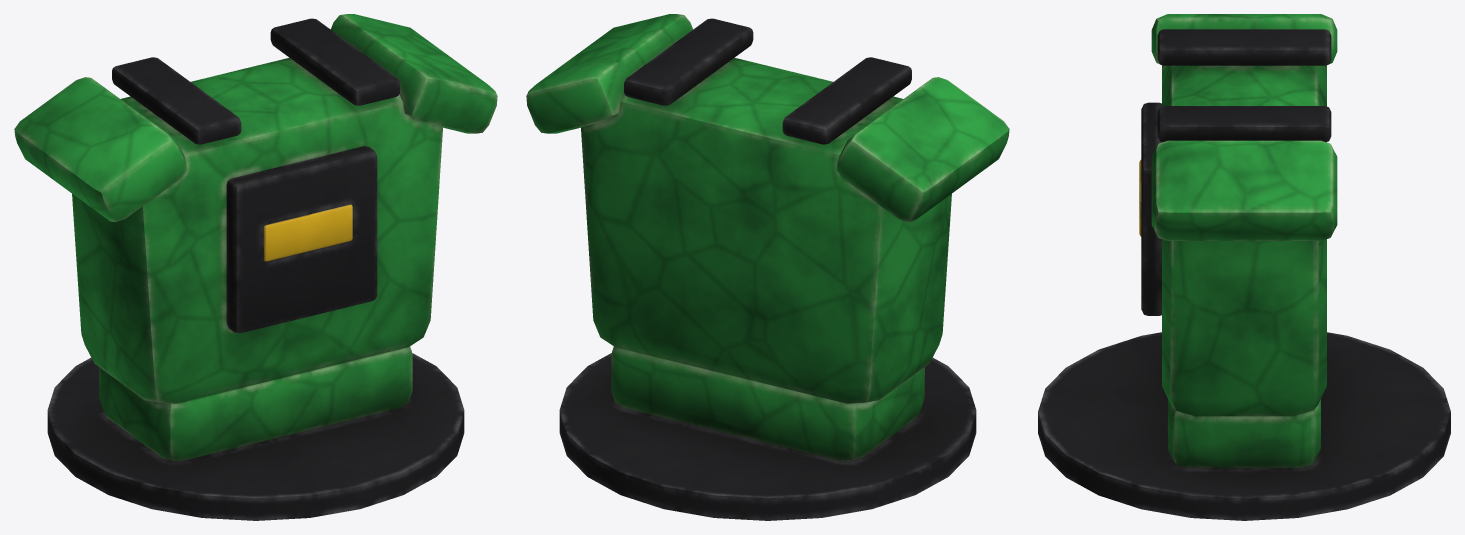
The model's file is pk_armor.glb.
The picture shows the model from 3 angles, left to right: view 1: azimuth 30°, elevation 25°; view 2: azimuth 150°, elevation 25°; view 3: azimuth 270°, elevation 25°; orthographic projection.
Parts seen in each view (by area): view 1: pk_armor; view 2: pk_armor; view 3: pk_armor.
Part boxes in pixels (left/top/right/bottom): pk_armor: left=14, top=14, right=497, bottom=520; pk_armor: left=526, top=14, right=1009, bottom=520; pk_armor: left=1038, top=14, right=1450, bottom=520.
Size of the model in its own units: 0.6945 by 0.5969 by 0.625.
1 material, 1 textured.
